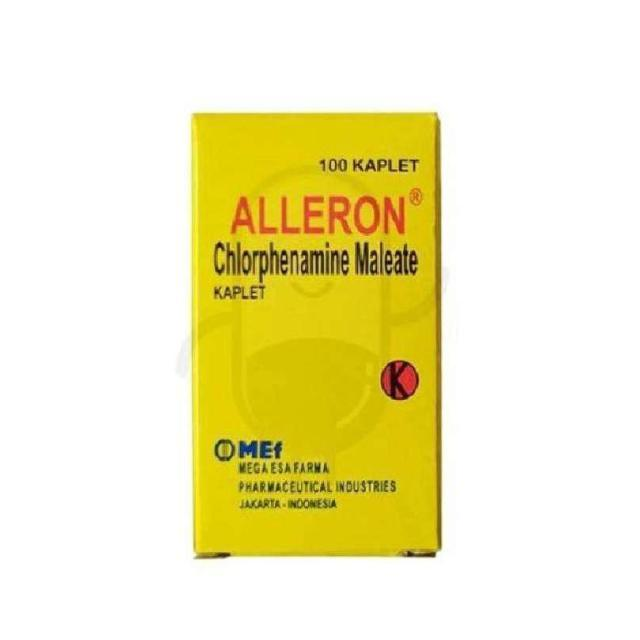drug-name: (228, 190, 407, 237)
